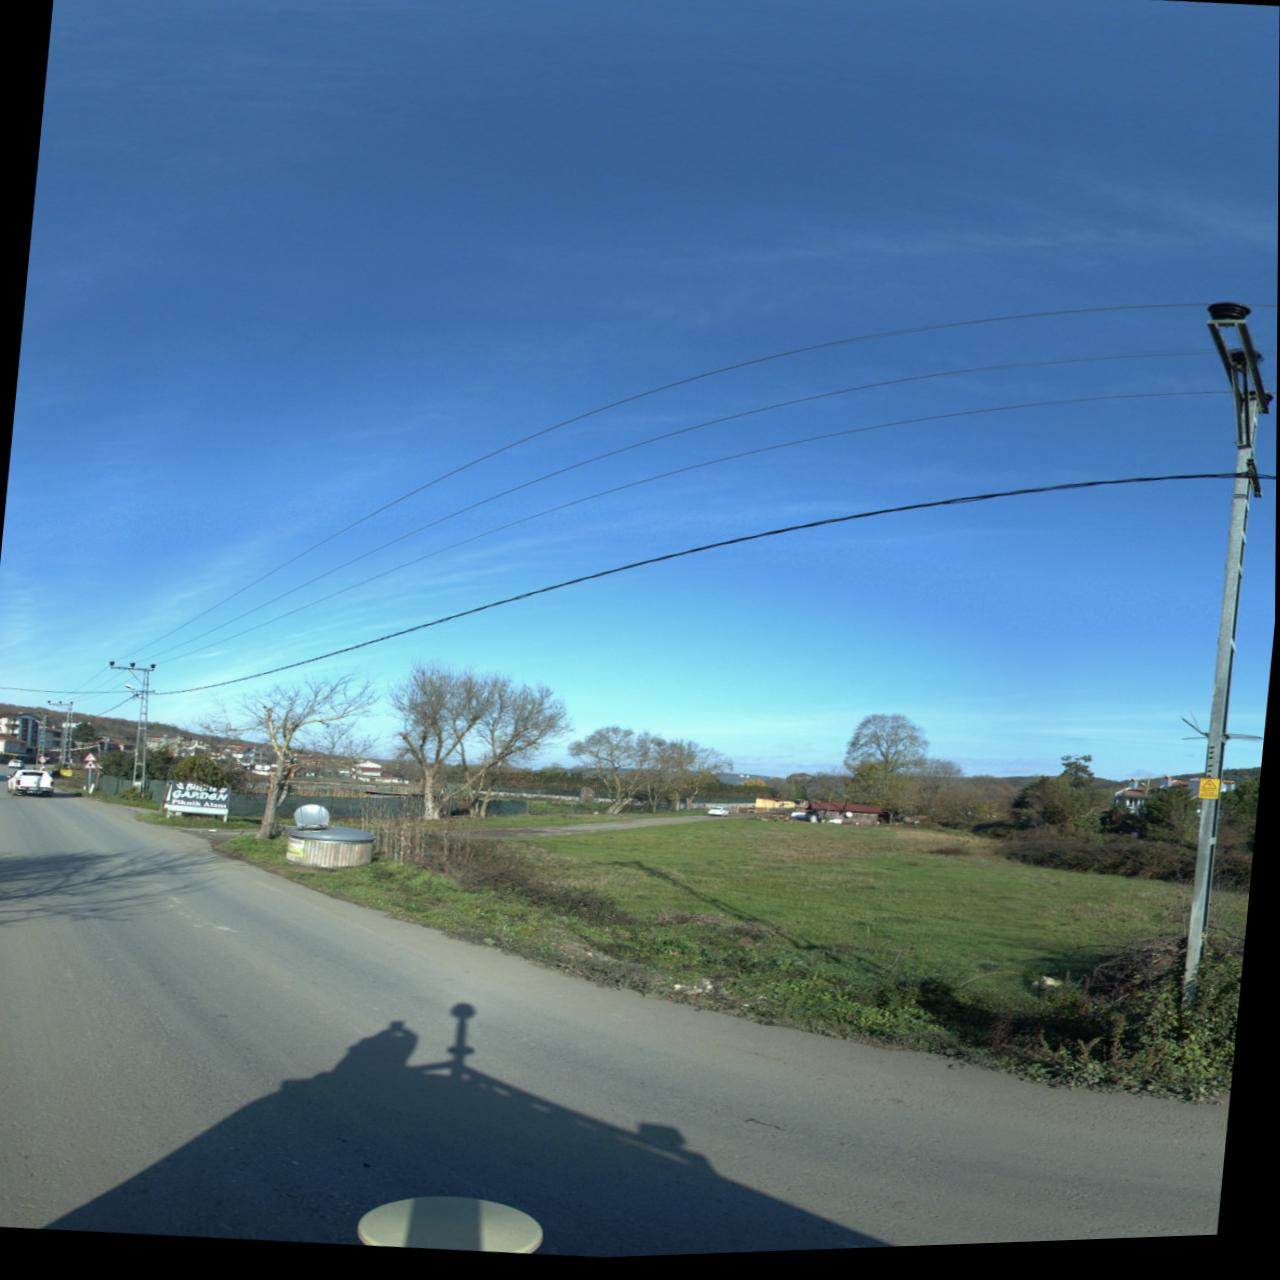Utility Pole Information Plate: (1200, 788, 1223, 809)
